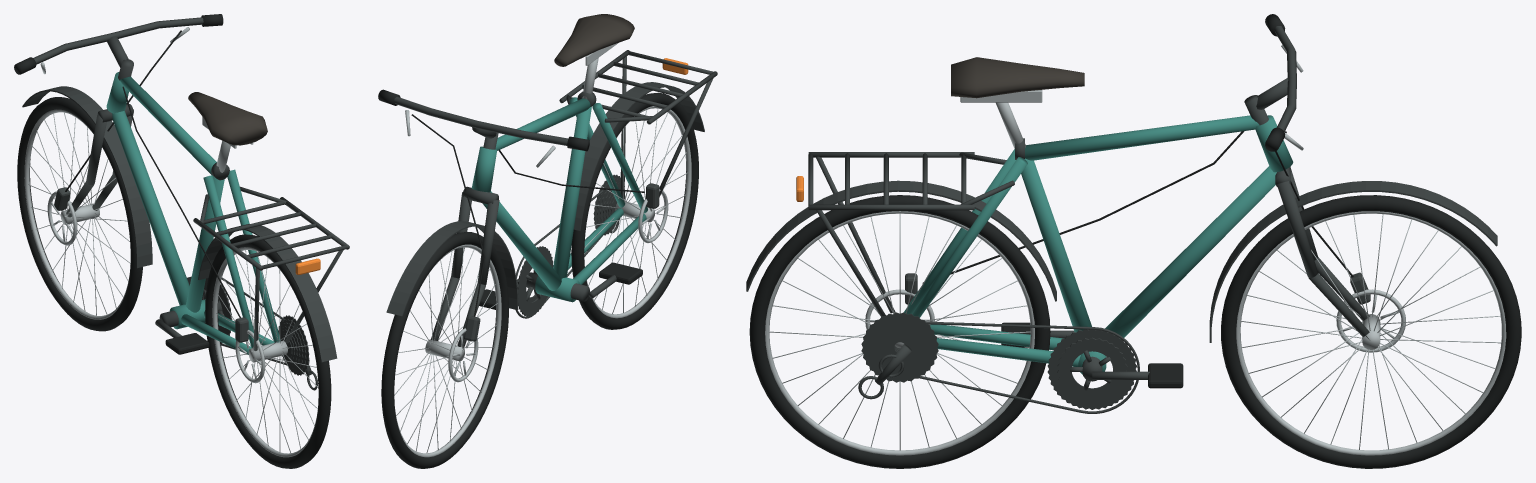
Rendered from bicycle.glb.
3 views of the same model, side by side, from view 1: azimuth 30°, elevation 25°; view 2: azimuth 150°, elevation 25°; view 3: azimuth 270°, elevation 25° (orthographic). The views are drawn at different scales.
Parts seen in each view (by area): view 1: Fixed_FramePaint, Fixed_DarkMetal, FrontAssembly_DarkMetal, RearWheel_Rubber, FrontWheel_Rubber, FrontWheel_Aluminum, RearWheel_Aluminum, Fixed_Saddle, RearWheel_DarkMetal, Crank_DarkMetal, Pedal_L_Rubber, Fixed_Cable (+2 smaller); view 2: Fixed_FramePaint, FrontAssembly_DarkMetal, Fixed_DarkMetal, FrontWheel_Rubber, FrontWheel_Aluminum, RearWheel_Rubber, RearWheel_Aluminum, Fixed_Saddle, Crank_DarkMetal, RearWheel_DarkMetal, Pedal_L_Rubber, Fixed_Aluminum (+2 smaller); view 3: Fixed_FramePaint, FrontWheel_Rubber, RearWheel_Rubber, Fixed_DarkMetal, FrontWheel_Aluminum, FrontAssembly_DarkMetal, RearWheel_Aluminum, Crank_DarkMetal, Fixed_Saddle, RearWheel_DarkMetal, Fixed_Aluminum, Pedal_R_Rubber.
Boxes of the visible parts, x1,y1,x2,y2 form: Fixed_FramePaint: (106, 72, 280, 354); Fixed_DarkMetal: (193, 162, 349, 390); FrontAssembly_DarkMetal: (22, 17, 203, 268); RearWheel_Rubber: (205, 234, 331, 468); FrontWheel_Rubber: (17, 97, 142, 331); FrontWheel_Aluminum: (24, 109, 130, 319); RearWheel_Aluminum: (212, 247, 318, 457); Fixed_Saddle: (188, 92, 267, 145); RearWheel_DarkMetal: (278, 315, 309, 375); Crank_DarkMetal: (155, 278, 232, 343); Pedal_L_Rubber: (165, 333, 209, 354); Fixed_Cable: (122, 86, 240, 317); Fixed_FramePaint: (471, 97, 647, 302); FrontAssembly_DarkMetal: (386, 96, 568, 350); Fixed_DarkMetal: (515, 50, 717, 318); FrontWheel_Rubber: (381, 232, 508, 468); FrontWheel_Aluminum: (394, 244, 501, 457); RearWheel_Rubber: (571, 92, 698, 329); RearWheel_Aluminum: (584, 106, 691, 318); Fixed_Saddle: (554, 14, 634, 66); Crank_DarkMetal: (516, 246, 616, 316); RearWheel_DarkMetal: (593, 174, 625, 235); Pedal_L_Rubber: (599, 262, 642, 284); Fixed_Aluminum: (582, 42, 618, 99); Fixed_FramePaint: (904, 115, 1293, 374); FrontWheel_Rubber: (1221, 195, 1521, 468); RearWheel_Rubber: (749, 195, 1050, 468); Fixed_DarkMetal: (746, 138, 1139, 413); FrontWheel_Aluminum: (1236, 211, 1506, 455); FrontAssembly_DarkMetal: (1209, 26, 1497, 342); RearWheel_Aluminum: (765, 211, 1034, 455); Crank_DarkMetal: (1047, 329, 1149, 409); Fixed_Saddle: (951, 57, 1084, 98); RearWheel_DarkMetal: (861, 312, 938, 382); Fixed_Aluminum: (960, 90, 1042, 149); Pedal_R_Rubber: (1148, 363, 1183, 388).
Size of the model in its own units: 0.6924 by 1.03 by 1.8.
